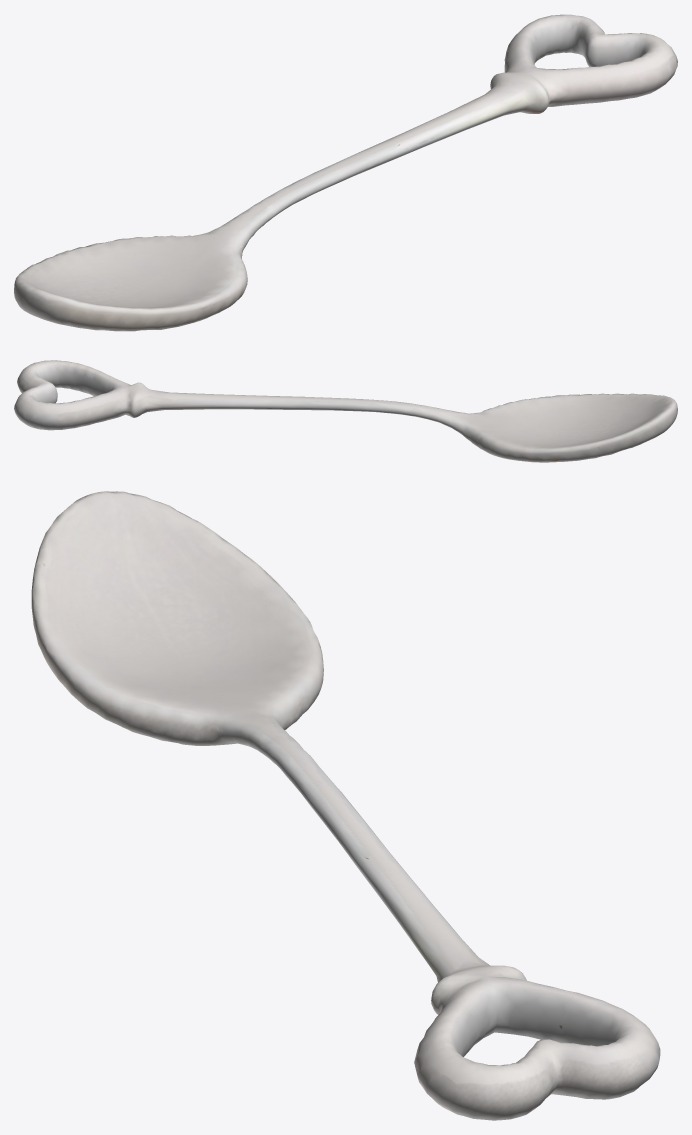
The model's file is Heart_Spoon.fbx.
3 views of the same model, one above another, from view 1: azimuth 30°, elevation 25°; view 2: azimuth 150°, elevation 25°; view 3: azimuth 270°, elevation 25° (orthographic). The views are drawn at different scales.
Visible parts, largest first — view 1: Heart_Spoon; view 2: Heart_Spoon; view 3: Heart_Spoon.
Part boxes in pixels (x1=…): Heart_Spoon: x1=14, y1=14, x2=677, y2=331; Heart_Spoon: x1=14, y1=360, x2=677, y2=462; Heart_Spoon: x1=31, y1=491, x2=660, y2=1120.
Size of the model in its own units: 0.16 by 0.0134 by 0.0778.
1 material, 1 textured.
